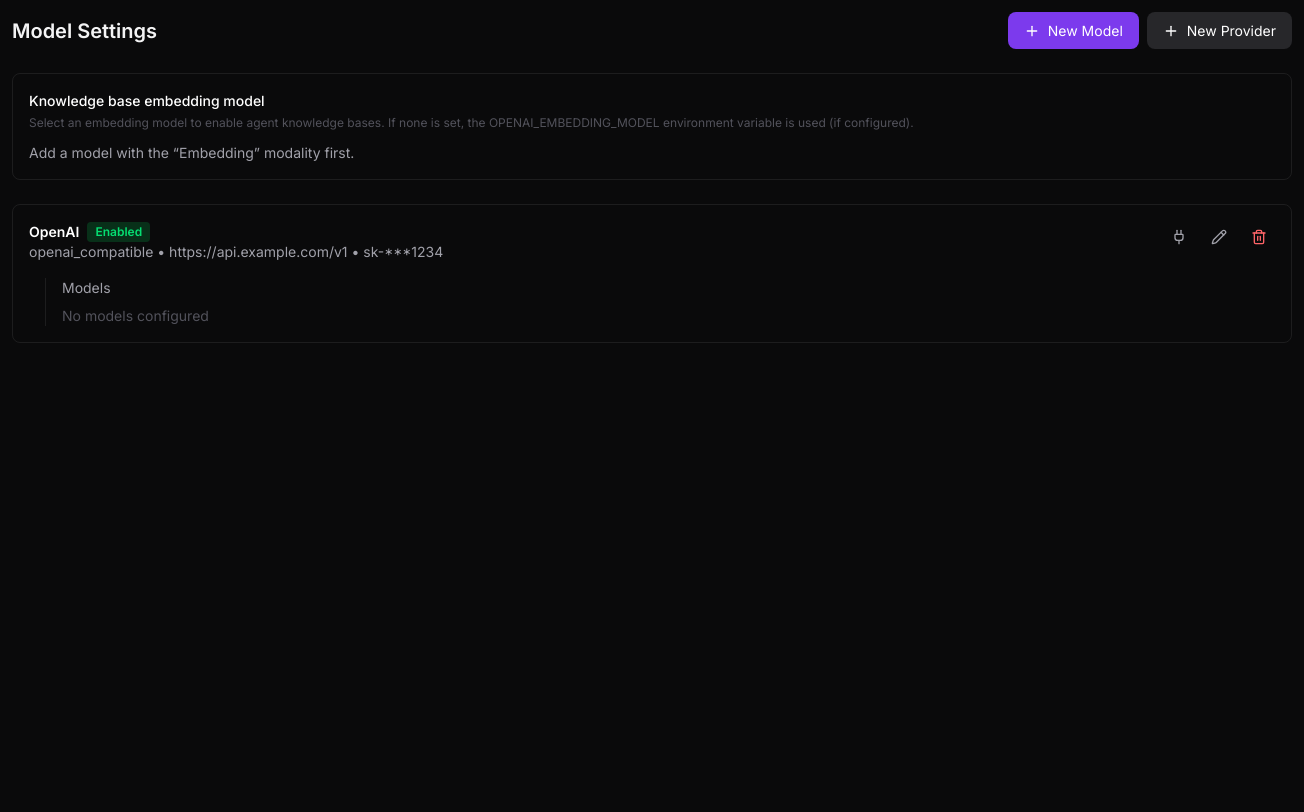
Test: ModelSettingsTab › new provider form shows only OpenAI-compatible option
Click the button "New Provider" at point(1219, 30), box [1147,12,1292,49]
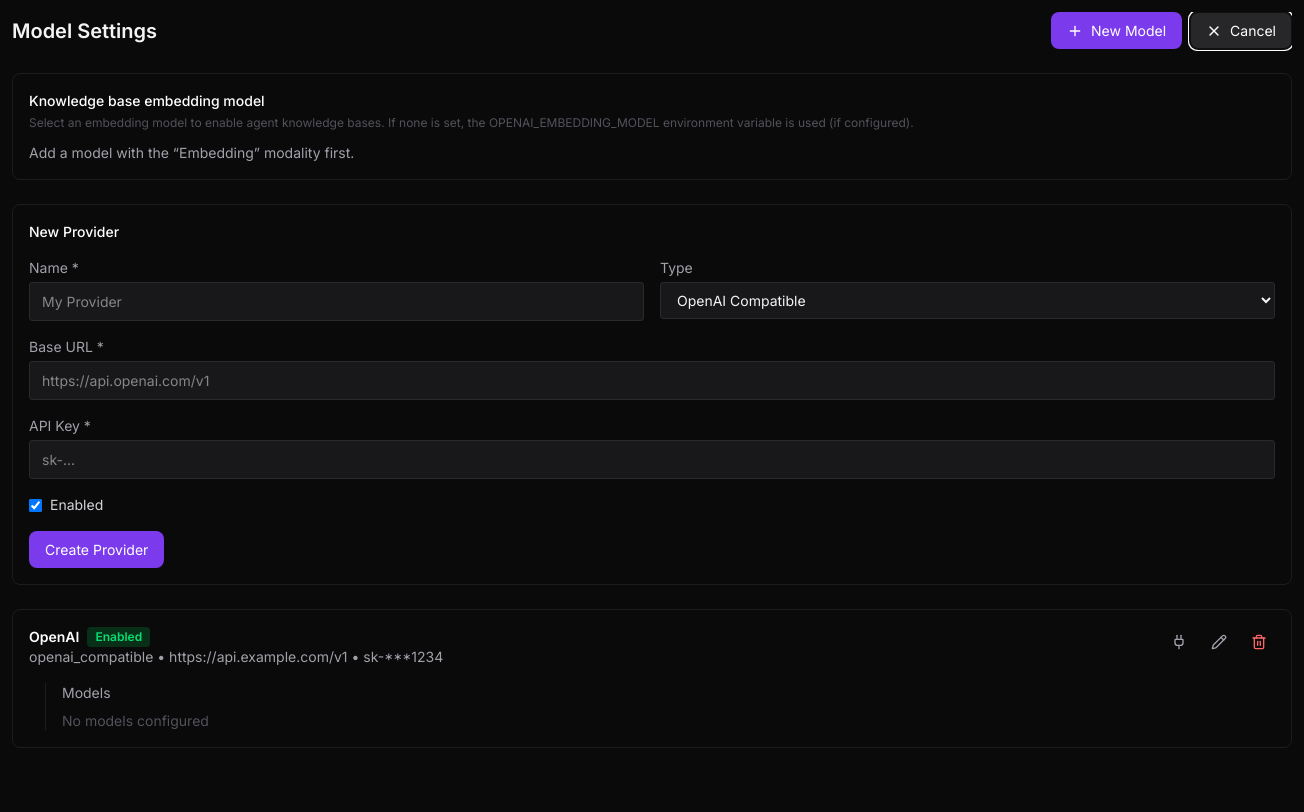
Check: the dropdown is shown, box [660,282,1275,319]
